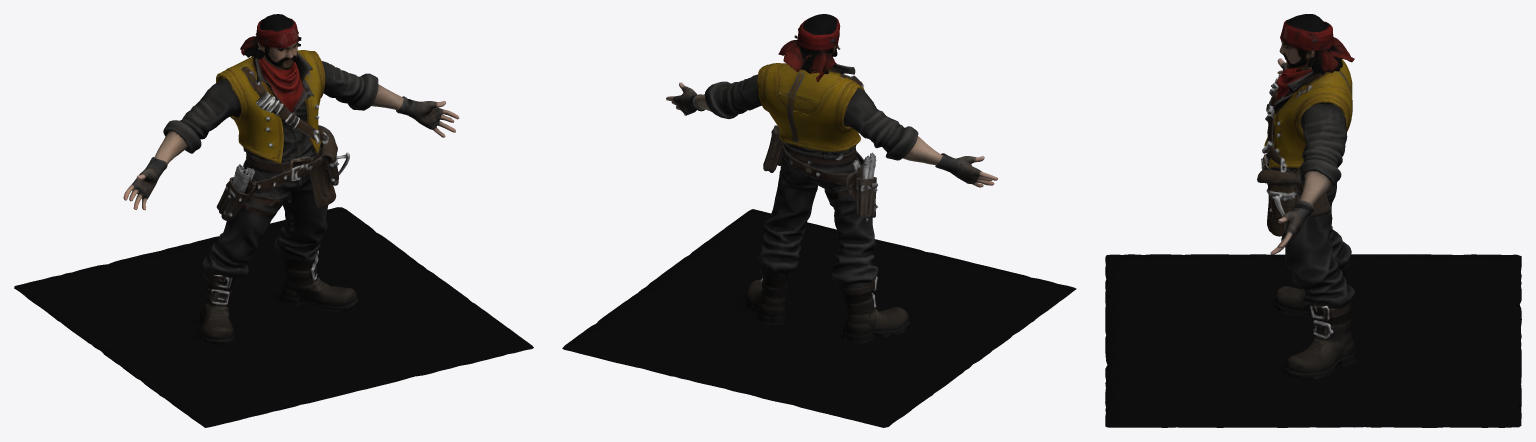
The model's file is rico_t1.glb.
3 views of the same model, side by side, from view 1: azimuth 30°, elevation 25°; view 2: azimuth 150°, elevation 25°; view 3: azimuth 270°, elevation 25° (orthographic). The views are drawn at different scales.
Parts seen in each view (by area): view 1: geometry_0; view 2: geometry_0; view 3: geometry_0.
Part boxes in pixels (bbox=[...]): geometry_0: bbox=[14, 14, 533, 427]; geometry_0: bbox=[562, 14, 1076, 427]; geometry_0: bbox=[1105, 14, 1521, 427].
Size of the model in its own units: 0.9994 by 0.8631 by 1.
1 material, 1 textured.
